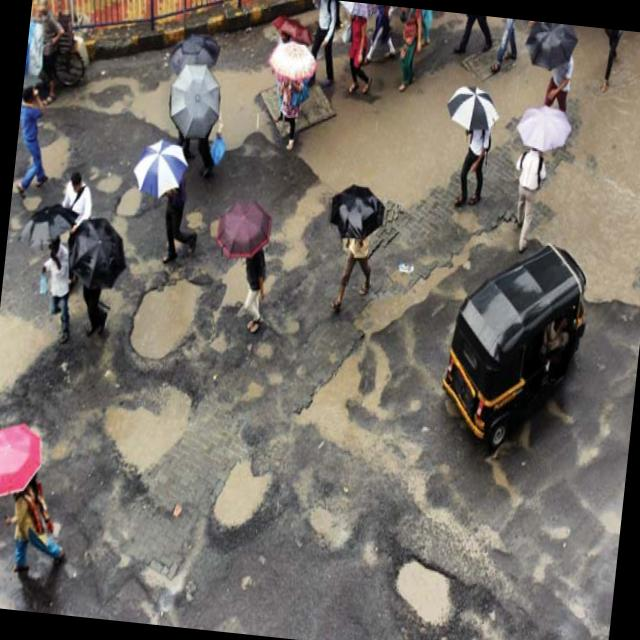Potholes: (222, 0, 640, 377), (280, 329, 450, 486), (82, 369, 204, 486), (192, 433, 284, 553), (0, 272, 64, 415), (389, 534, 476, 638), (126, 270, 216, 364), (294, 486, 367, 573), (100, 178, 158, 235), (96, 160, 124, 204)
